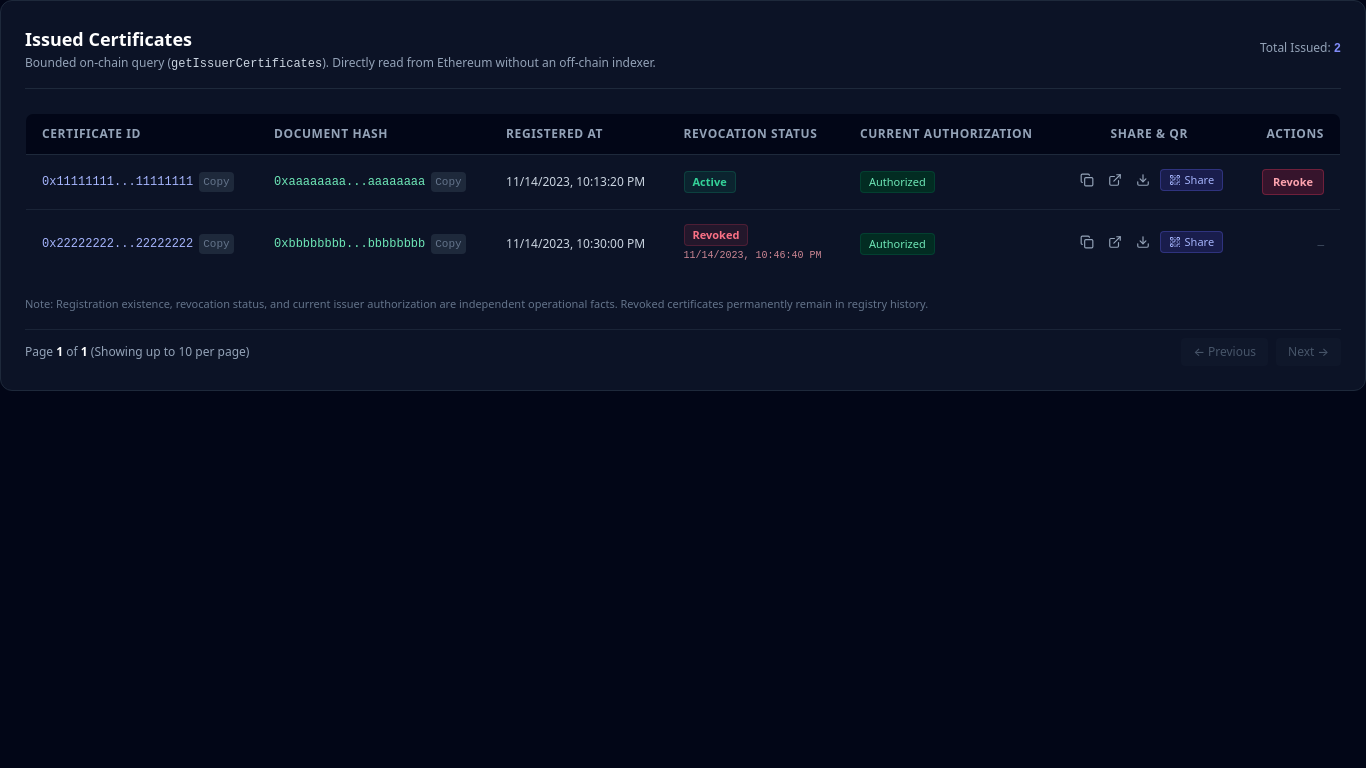
it: Certificate Revocation UI Components (Mocked-Wallet Coverage) › IssuerCertificateList with Revocation Integration › enables Revoke button only for active certificates owned by the connected wallet
This screenshot has width=1366, height=768.
Expected: the text "Active" is shown, [684,171,736,193]
Expected: the text "Revoked" is shown, [684,224,748,246]
# Clicking Revoke opens dialog
Click the button "Revoke": (1293, 182) [1262,169,1324,195]
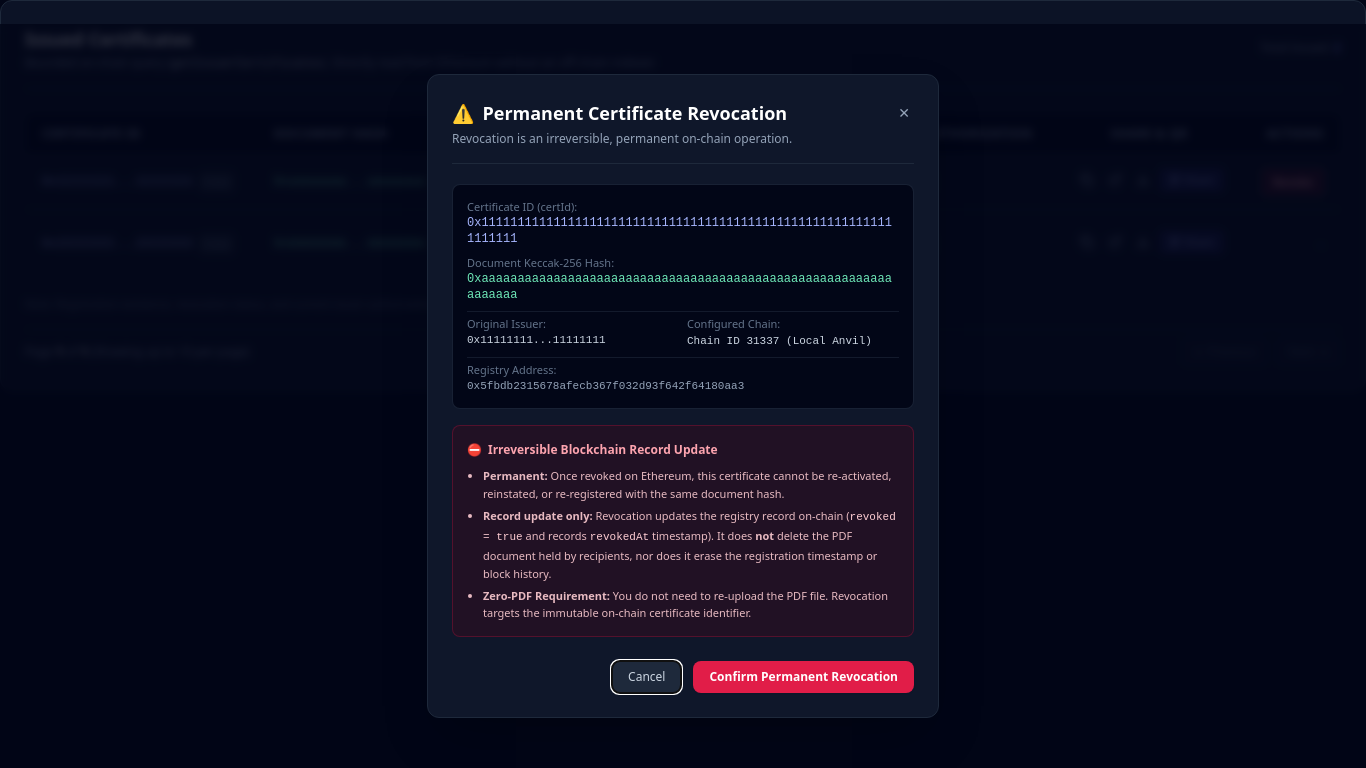
Result: the heading "⚠️ Permanent Certificate Revocation" is shown at [452,99,792,127]
